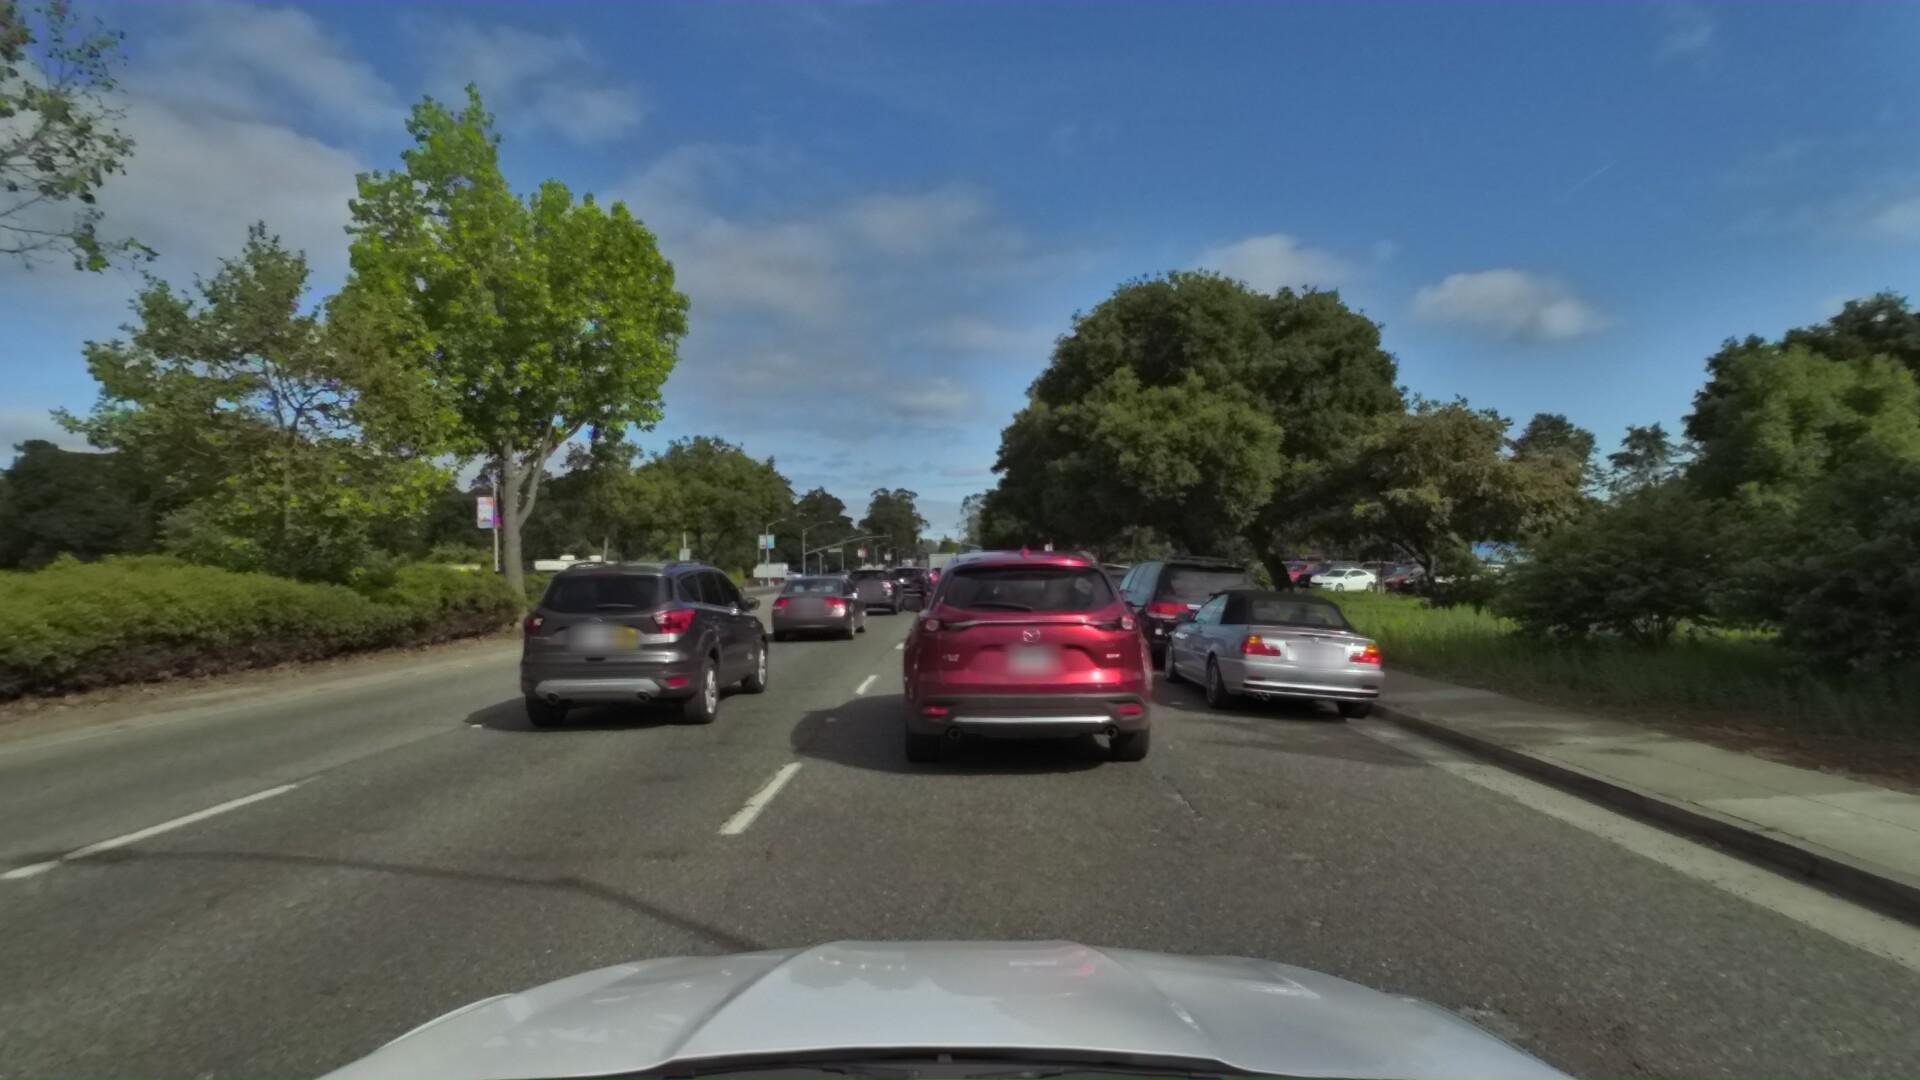car: (876, 529, 1193, 798), (497, 550, 783, 745), (1149, 574, 1399, 735), (1091, 541, 1271, 679), (1069, 564, 1188, 645), (762, 570, 872, 651), (930, 578, 1036, 661), (1048, 554, 1146, 630), (833, 564, 907, 622), (936, 568, 1006, 621), (886, 566, 931, 601), (901, 568, 936, 596), (914, 568, 944, 591)
other_vehicle: (522, 549, 622, 609)
truck: (347, 556, 488, 625)
